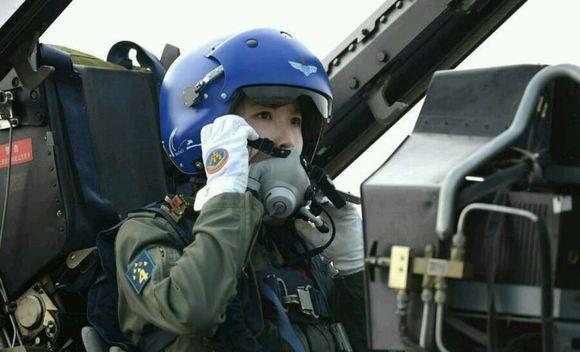WRONG: (232, 92, 314, 174)
